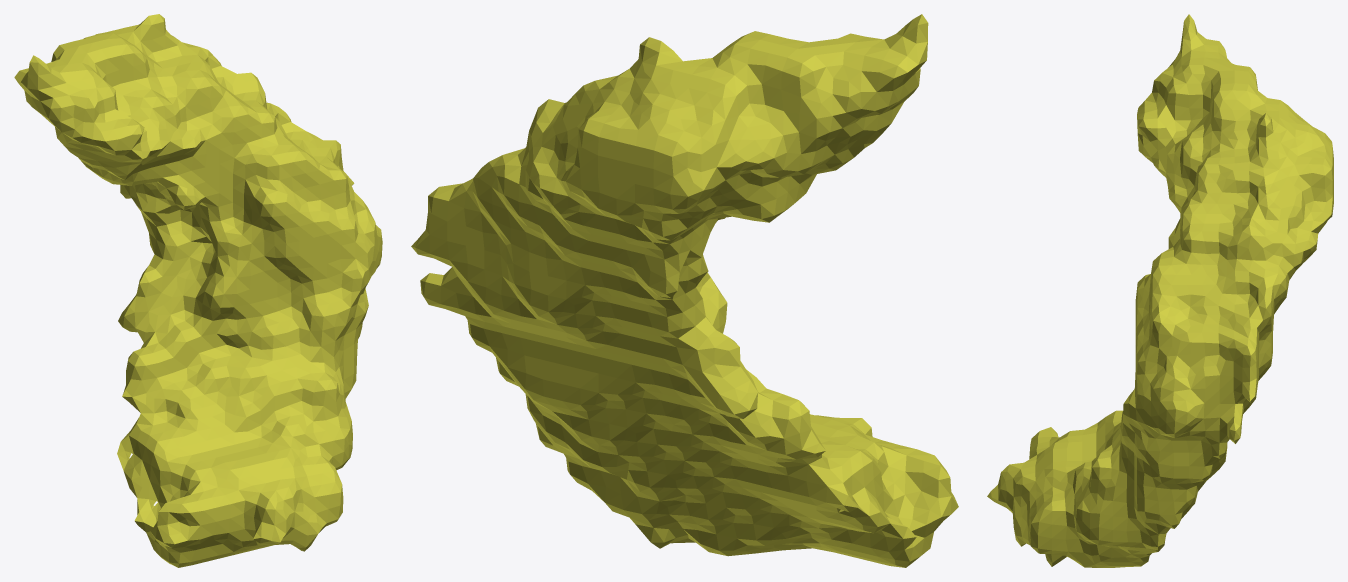
Rendered from aseg_053_Right-Hippocampus.glb.
3 views of the same model, side by side, from view 1: azimuth 30°, elevation 25°; view 2: azimuth 150°, elevation 25°; view 3: azimuth 270°, elevation 25° (orthographic). The views are drawn at different scales.
Bounding box in the file's own units: 25.66 × 33.5 × 22.75.
